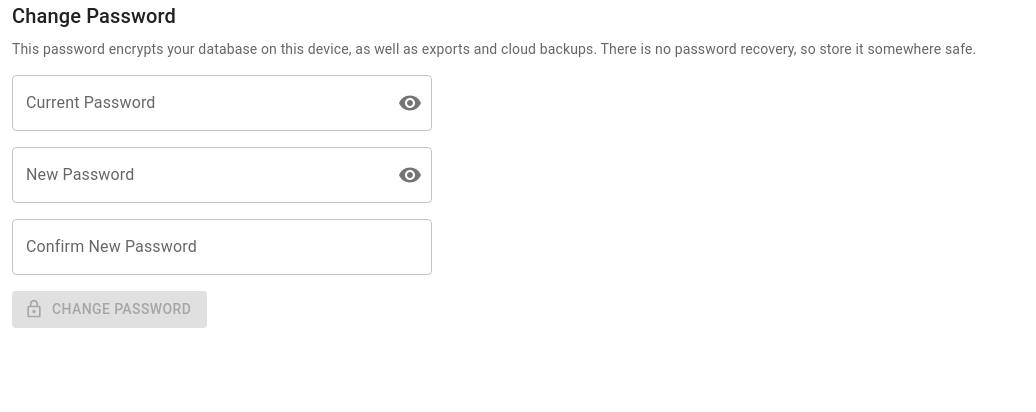
Test: ChangePasswordSection › shows the incorrect-current-password error surfaced from changePassword
This screenshot has width=1036, height=412.
Type "wrongpassword" into the password field labelled "Current Password" at (197, 103), box x1=12 y1=75 x2=382 y2=131
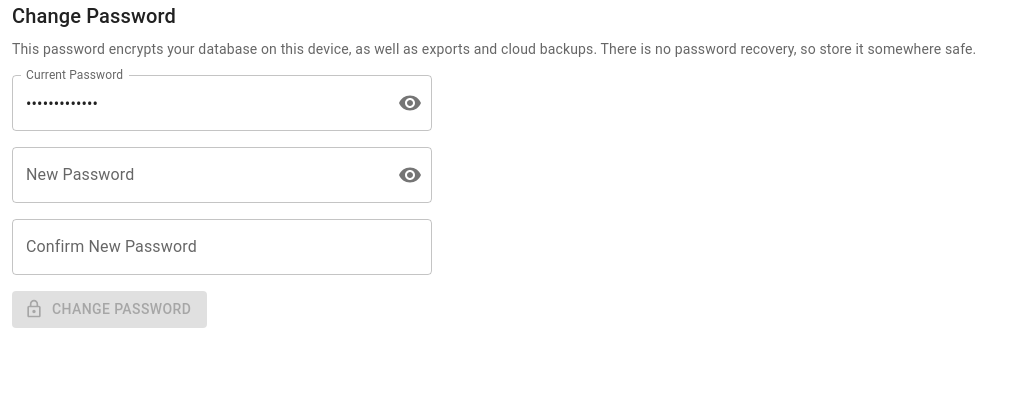
Type "newpassword1" into the password field labelled "New Password" at (197, 175), box x1=12 y1=147 x2=382 y2=203
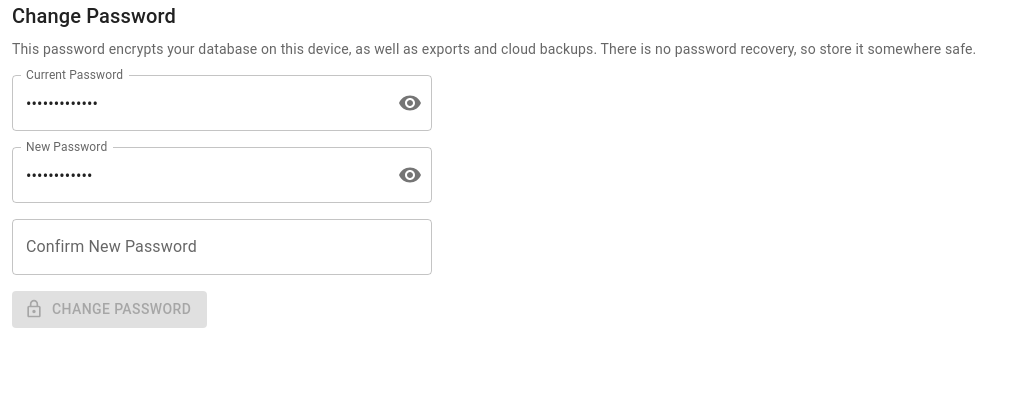
Type "newpassword1" into the password field labelled "Confirm New Password" at (222, 247), box x1=12 y1=219 x2=432 y2=275
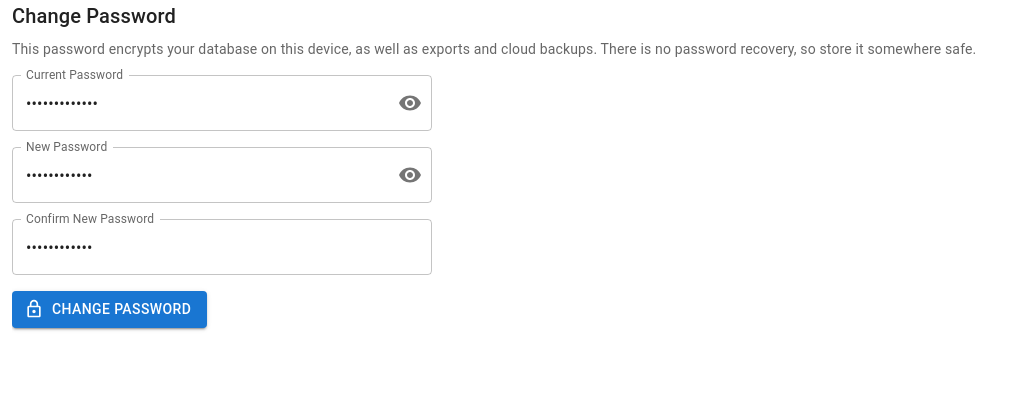
Click the button "Change Password" at (110, 309), box x1=12 y1=291 x2=207 y2=328
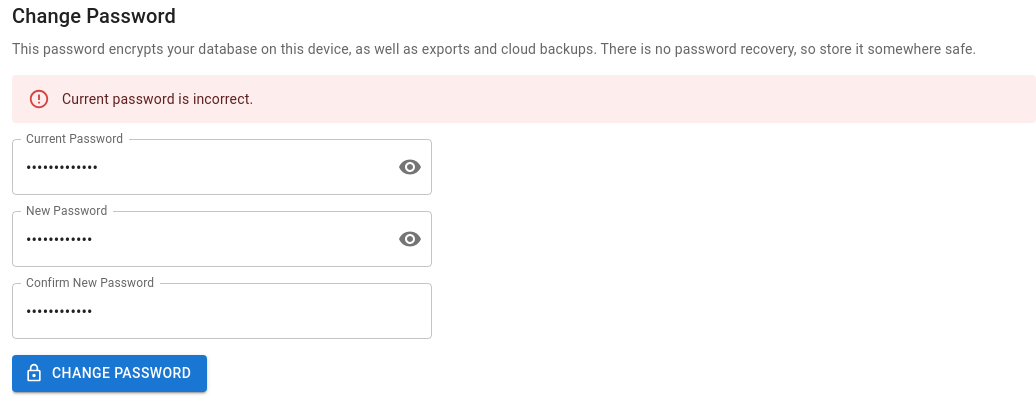
Result: the text "Current password is incorrect." is shown at x1=62 y1=91 x2=253 y2=107
